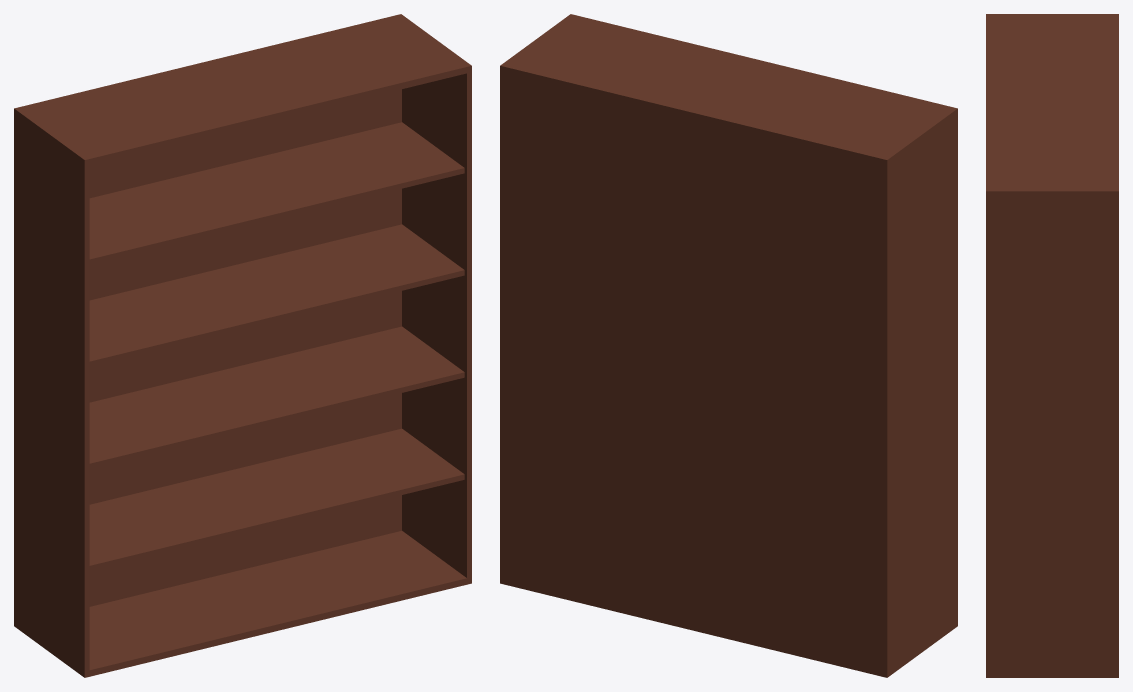
The model's file is bookshelf.fbx.
The picture shows the model from 3 angles, left to right: view 1: azimuth 30°, elevation 25°; view 2: azimuth 150°, elevation 25°; view 3: azimuth 270°, elevation 25°; orthographic projection. The views are drawn at different scales.
Visible parts, largest first — view 1: Frame, Shelves; view 2: Frame; view 3: Frame.
Part boxes in pixels (box(x1,y1,x2,y2)): Frame: box(14, 14, 471, 677); Shelves: box(89, 122, 464, 570); Frame: box(500, 14, 957, 677); Frame: box(986, 14, 1118, 677).
Bounding box in the file's own units: 117 × 150 × 37.05.
